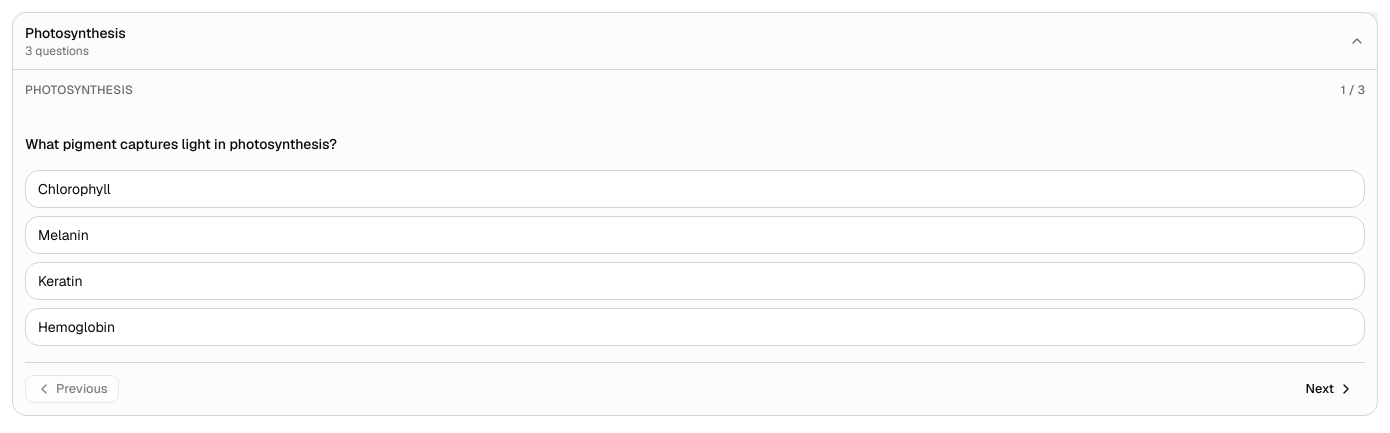
Test: QuizPanel pagination › Next advances to the following question
Click the button with aria-label "Next question": click(1330, 389) [1294,375,1365,403]
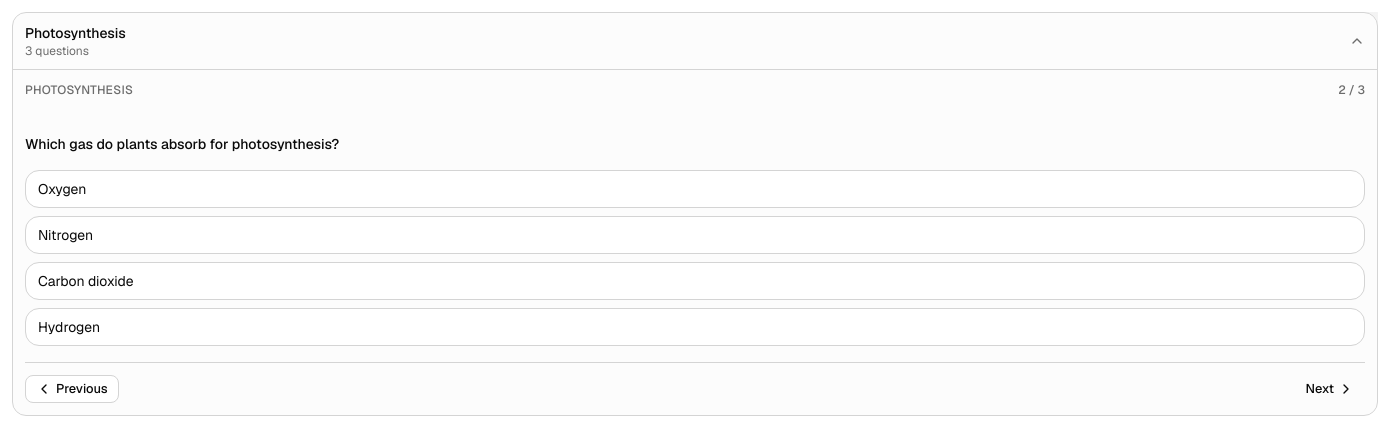
Now the text "2 / 3" is shown, box [1338,82,1365,98]
Now the text "Which gas do plants absorb for photosynthesis?" is shown, box [25,135,339,153]
